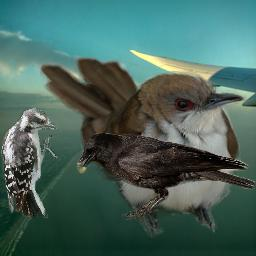Crow: (74, 132, 255, 220)
Cuckoo: (40, 56, 247, 241)
Woodpecker: (1, 108, 58, 220)
